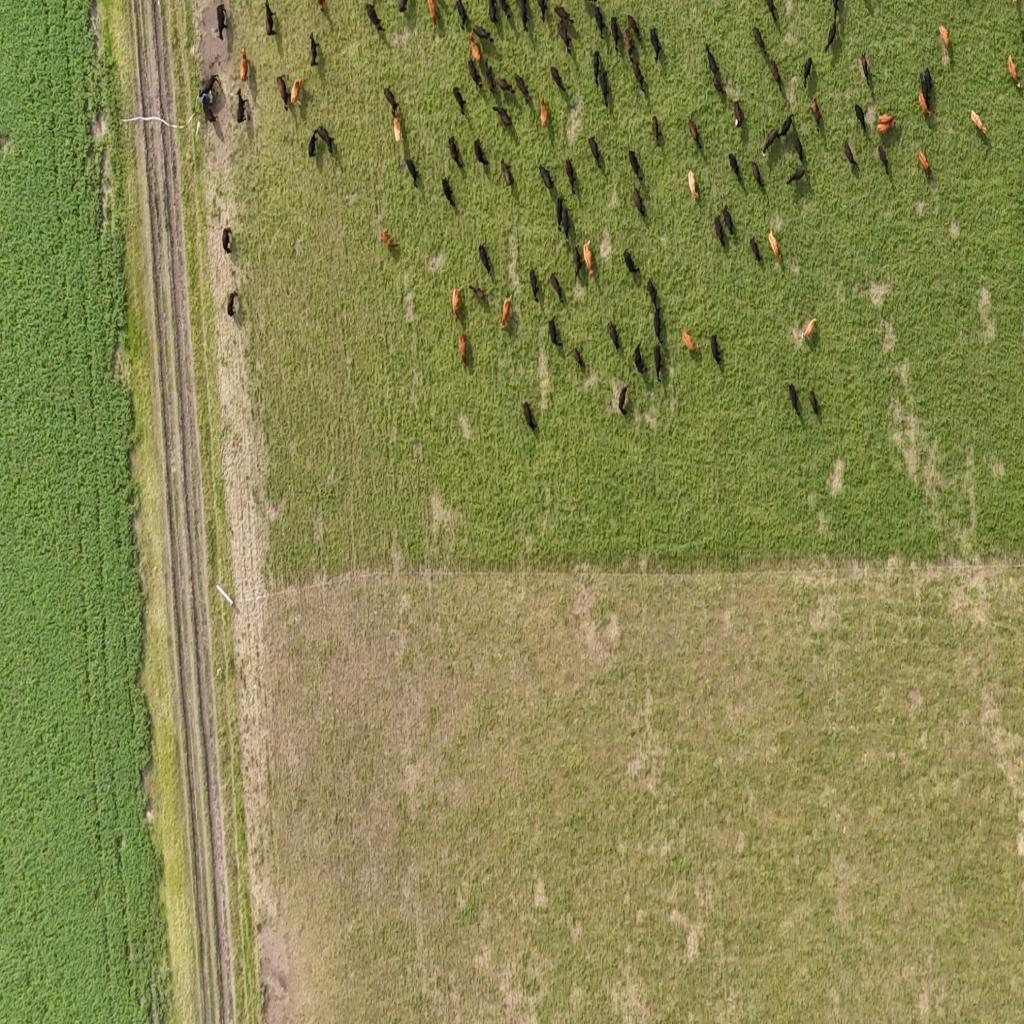cow: (966, 97, 992, 150), (196, 67, 223, 104), (288, 77, 304, 116), (807, 387, 827, 418), (919, 68, 933, 112), (629, 57, 645, 95), (790, 128, 805, 167), (551, 64, 568, 98), (917, 148, 933, 184), (761, 126, 780, 156), (315, 125, 334, 155), (712, 68, 728, 102), (556, 19, 572, 53), (201, 90, 216, 126), (597, 63, 609, 107), (493, 105, 513, 131), (478, 243, 493, 277), (788, 383, 802, 419), (876, 142, 890, 178), (844, 140, 858, 176), (514, 74, 530, 105), (750, 161, 765, 194), (706, 44, 720, 79), (473, 23, 494, 46), (768, 229, 781, 266), (538, 164, 554, 194), (582, 238, 594, 278), (588, 135, 602, 169), (448, 135, 462, 169), (366, 2, 382, 31), (382, 86, 398, 115), (441, 177, 455, 210), (628, 149, 642, 182), (753, 26, 767, 59), (474, 138, 488, 171), (452, 286, 464, 324), (646, 278, 659, 313), (404, 158, 419, 188), (523, 400, 537, 432), (722, 206, 736, 238), (632, 186, 646, 218), (550, 272, 564, 304), (623, 250, 639, 278), (276, 74, 290, 106), (627, 13, 641, 45), (1007, 55, 1021, 87), (854, 102, 867, 136), (688, 118, 701, 152), (769, 58, 782, 92), (556, 196, 567, 236), (500, 158, 514, 189), (454, 0, 468, 31), (710, 334, 722, 370), (778, 113, 794, 140), (824, 19, 837, 52), (469, 59, 482, 92), (216, 2, 227, 41), (714, 215, 726, 250), (565, 157, 577, 192), (634, 345, 647, 377), (728, 152, 741, 184), (788, 165, 806, 188), (554, 3, 572, 26), (810, 97, 822, 131), (469, 28, 481, 62), (593, 5, 605, 39), (391, 106, 402, 143), (653, 305, 663, 345), (592, 49, 602, 89), (610, 16, 621, 52), (803, 316, 818, 342), (453, 86, 466, 116), (860, 50, 871, 85), (683, 329, 699, 353), (427, 0, 439, 32), (469, 284, 488, 304), (764, 0, 778, 27), (496, 74, 514, 95), (498, 0, 512, 27), (381, 228, 398, 250), (608, 321, 620, 352), (750, 236, 762, 266), (548, 317, 560, 347), (573, 245, 583, 281), (458, 332, 468, 368), (938, 24, 950, 54), (516, 0, 528, 30), (623, 24, 634, 56), (484, 62, 495, 94), (529, 267, 539, 302), (650, 27, 660, 62), (236, 88, 246, 123), (309, 32, 319, 67), (265, 1, 275, 36), (618, 386, 629, 416), (874, 121, 896, 136), (572, 346, 584, 373), (226, 291, 238, 318), (803, 56, 813, 88), (688, 169, 698, 201), (502, 296, 512, 328), (732, 100, 742, 130), (308, 130, 318, 159), (654, 344, 662, 380), (652, 114, 661, 146), (540, 91, 548, 127), (240, 46, 248, 82), (488, 0, 499, 26), (222, 226, 232, 254), (536, 0, 547, 25), (877, 113, 896, 124), (398, 0, 410, 17), (832, 0, 840, 19), (316, 0, 324, 13)
